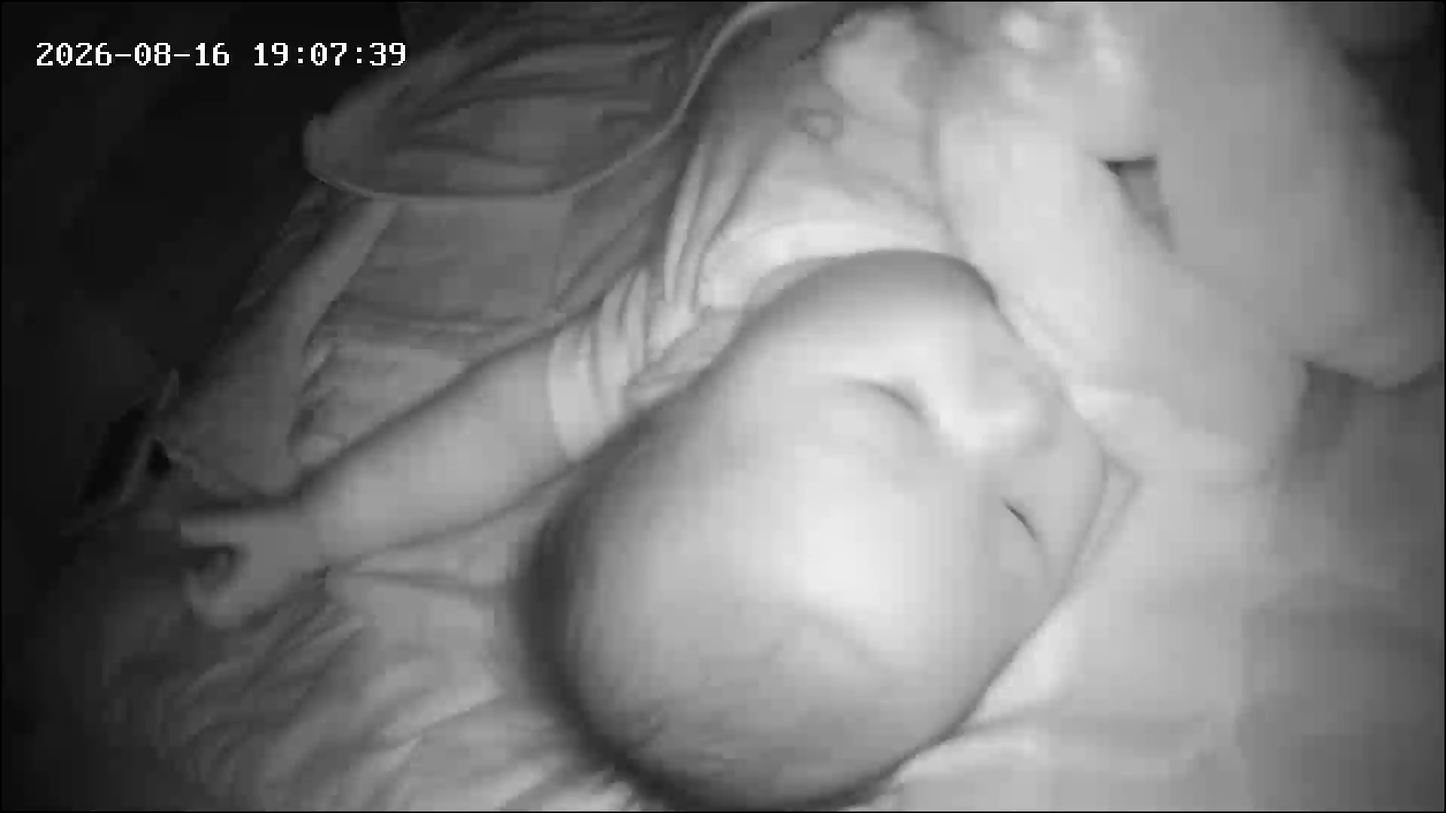baby: (164, 2, 1263, 810), (434, 0, 1446, 812)
baby_face: (539, 242, 1130, 810)
